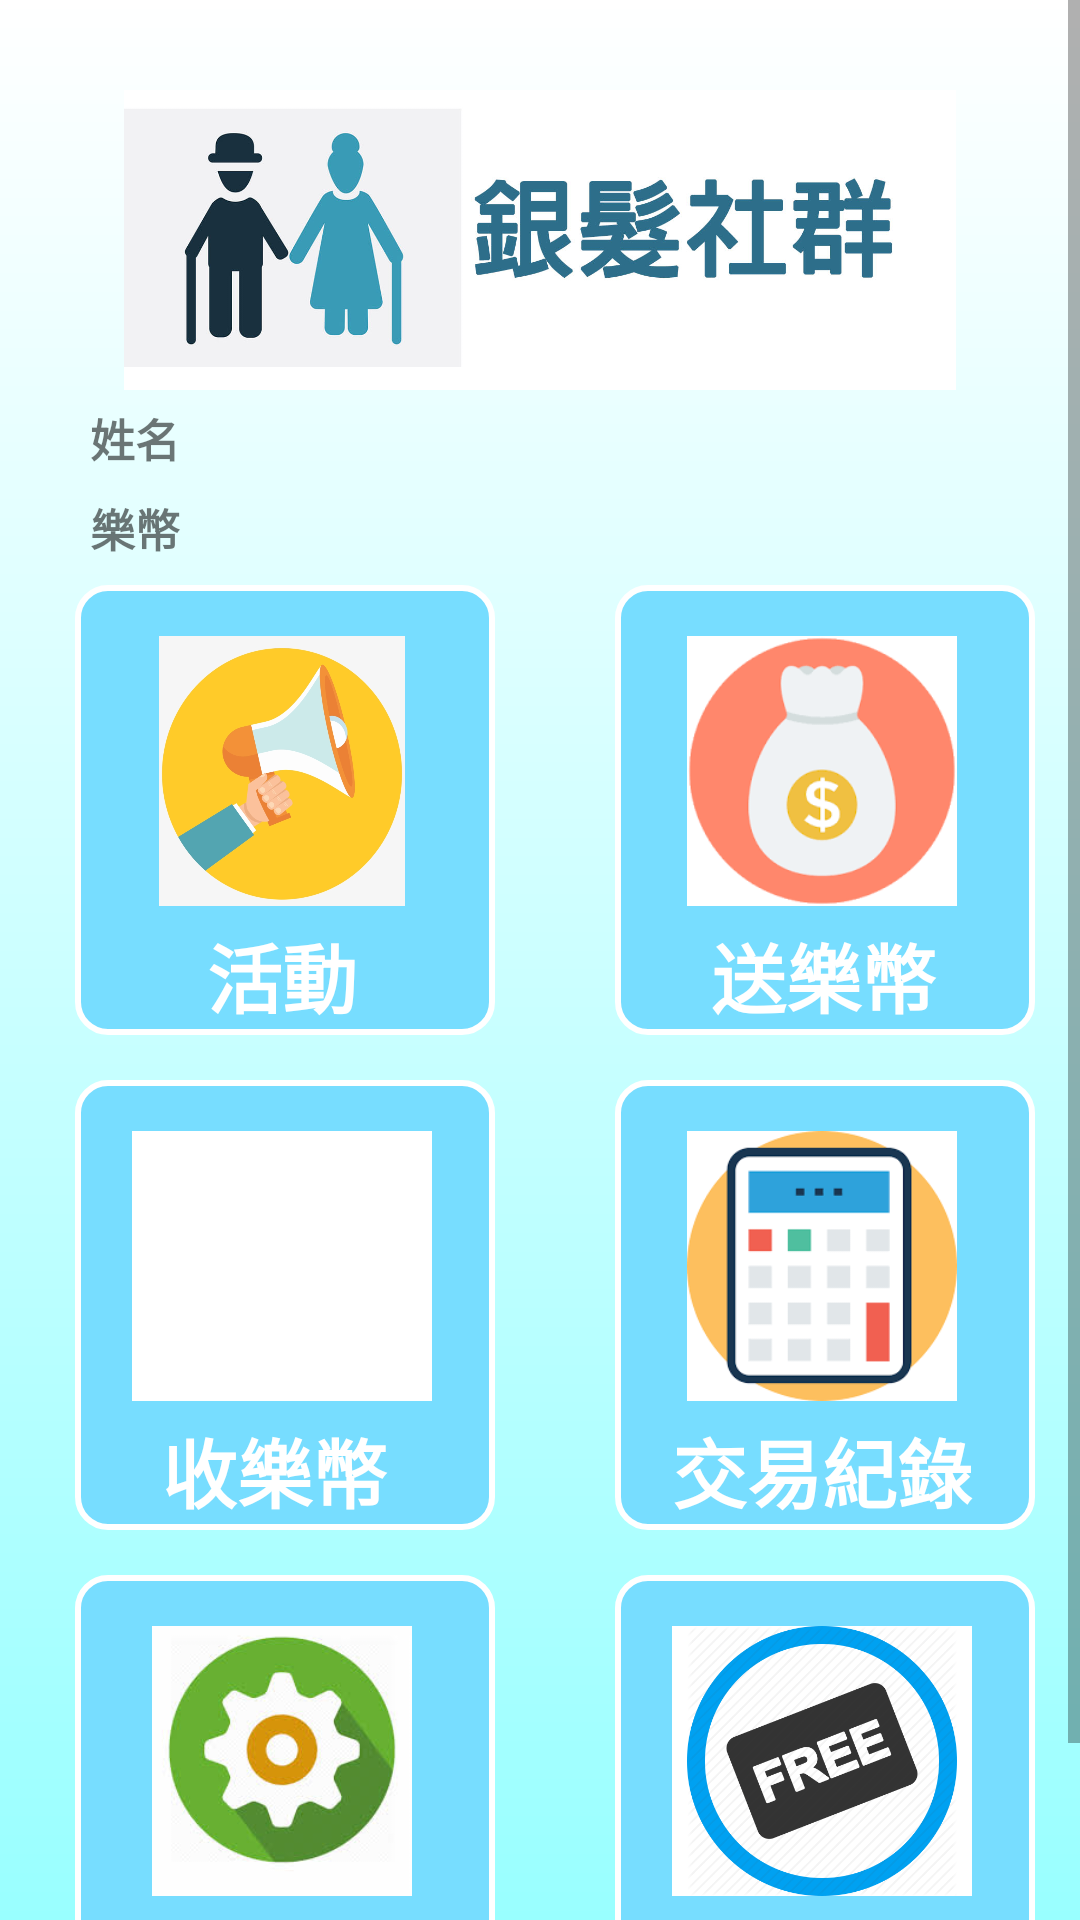

Screen size 1080x1920. Icon name, then its center in pixels as [x,y]:
setting: [282,1761]
